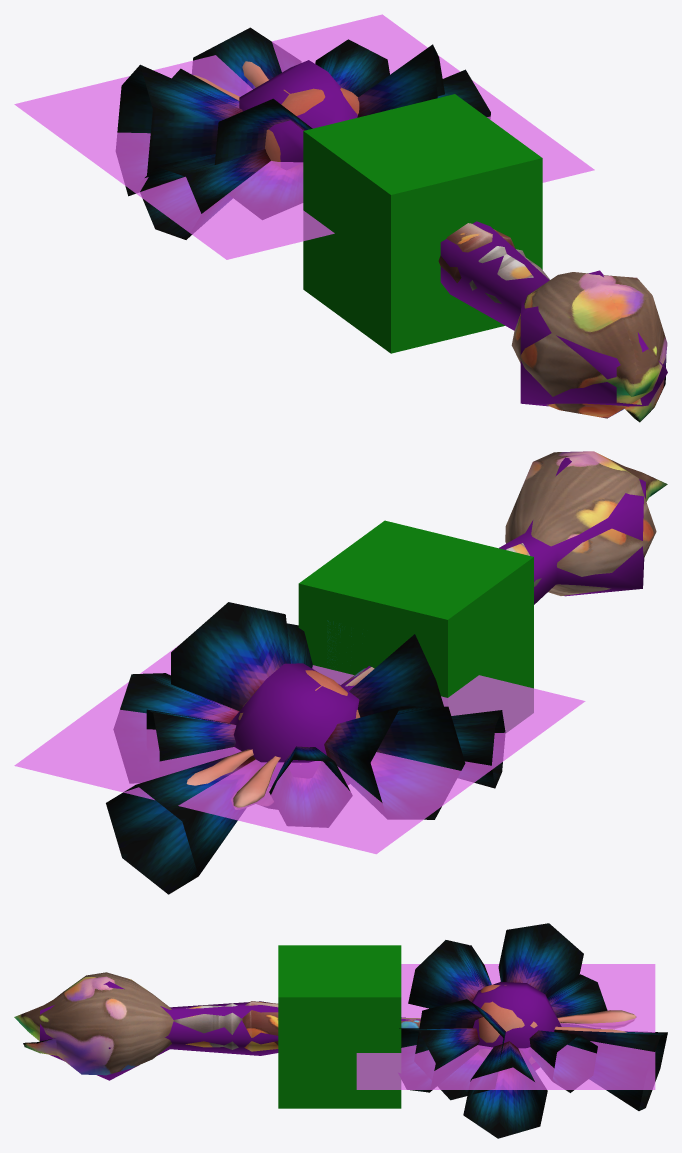
3 views of the same model, one above another, from view 1: azimuth 30°, elevation 25°; view 2: azimuth 150°, elevation 25°; view 3: azimuth 270°, elevation 25° (orthographic). The views are drawn at different scales.
Visible parts, largest first — view 1: object0167_Box, "object0066_Editable Poly", object0005_W252, "object0136_Editable Poly", "object0054_Editable Poly", "object0022_Editable Poly", "object0039_Editable Poly"; view 2: object0167_Box, "object0066_Editable Poly", "object0054_Editable Poly", "object0022_Editable Poly", object0005_W252, "object0136_Editable Poly", "object0039_Editable Poly"; view 3: object0167_Box, object0005_W252, "object0066_Editable Poly", "object0022_Editable Poly", "object0039_Editable Poly", "object0054_Editable Poly", "object0136_Editable Poly".
Part boxes in pixels (x1,y1,x2,y2): object0167_Box: (303, 94, 542, 353); "object0066_Editable Poly": (14, 14, 594, 259); object0005_W252: (193, 61, 667, 422); "object0136_Editable Poly": (239, 60, 667, 406); "object0054_Editable Poly": (140, 27, 444, 239); "object0022_Editable Poly": (116, 39, 389, 196); "object0039_Editable Poly": (172, 68, 490, 219); object0167_Box: (298, 520, 533, 732); "object0066_Editable Poly": (14, 644, 585, 854); "object0054_Editable Poly": (106, 602, 505, 894); "object0022_Editable Poly": (146, 623, 465, 819); object0005_W252: (186, 451, 667, 809); "object0136_Editable Poly": (230, 457, 645, 786); "object0039_Editable Poly": (113, 634, 443, 827); object0167_Box: (278, 945, 401, 1108); object0005_W252: (14, 972, 636, 1075); "object0066_Editable Poly": (356, 964, 655, 1089); "object0022_Editable Poly": (398, 923, 597, 1092); "object0039_Editable Poly": (408, 940, 607, 1138); "object0054_Editable Poly": (414, 945, 667, 1110); "object0136_Editable Poly": (40, 981, 561, 1080).
Bounding box in the file's own units: 1.07 × 0.5225 × 2.35.
